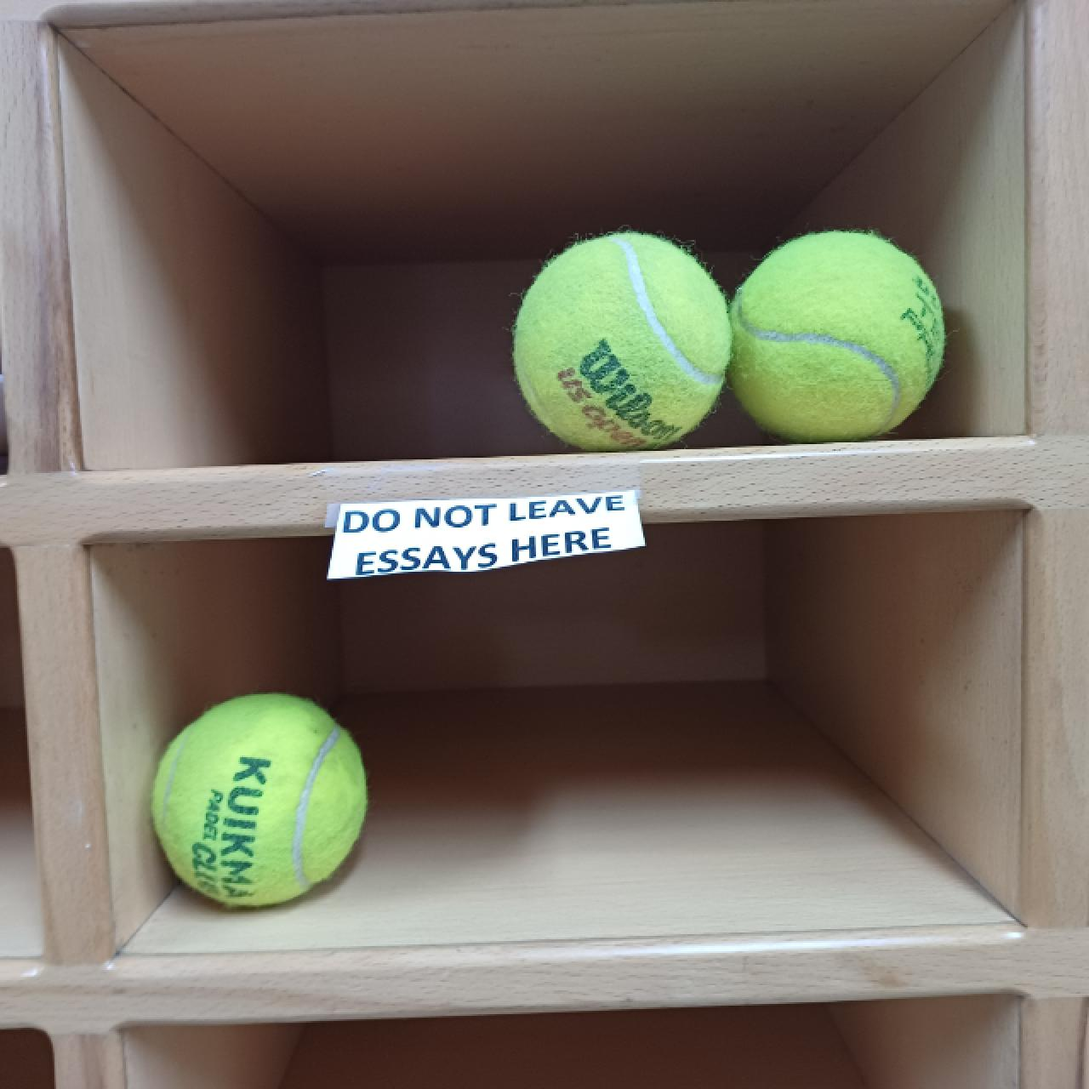tennis-ball: (507, 226, 735, 456), (147, 688, 373, 916), (726, 226, 953, 445)
